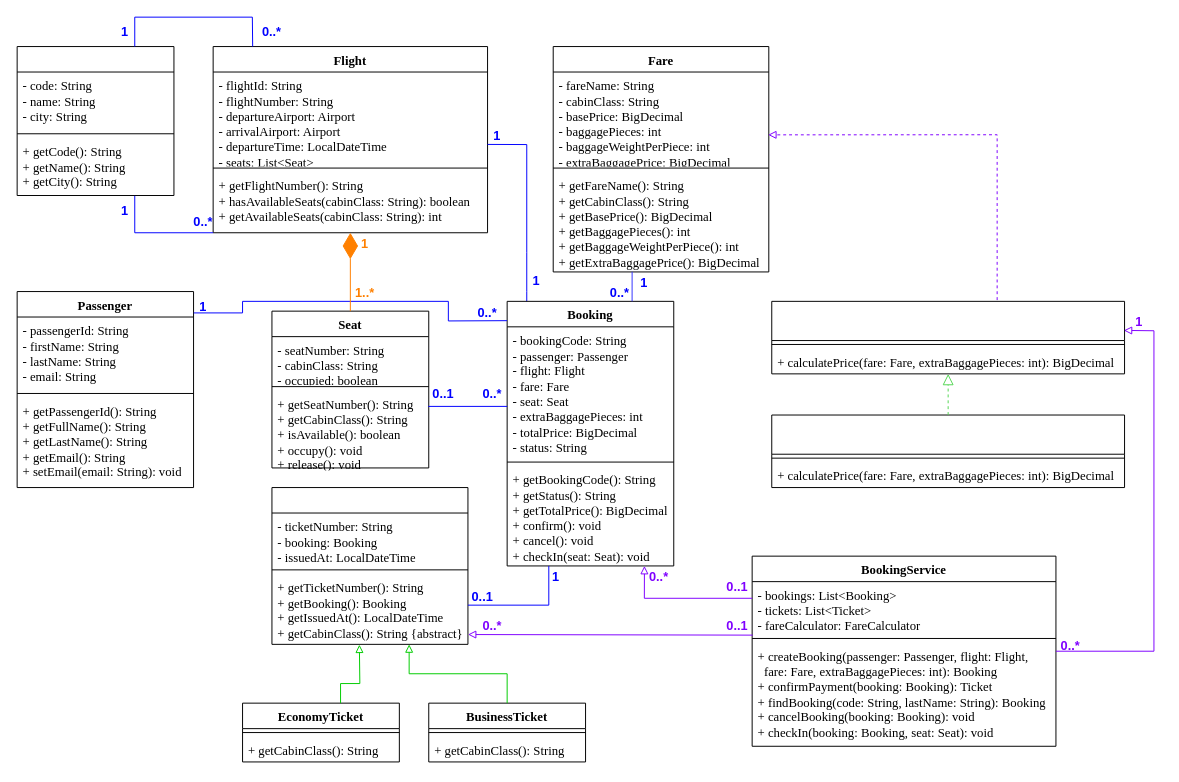
The diagram is 1179 pixels wide and 782 high, and some of its shapes have lost their labels. Here are the shapes that lost their labels. From the top down, the box of each, then its label:
(16, 46, 174, 196): Airport
(771, 300, 1125, 374): «interface» FareCalculator
(771, 414, 1125, 488): StandardFareCalculator
(271, 487, 468, 644): Ticket {abstract}
